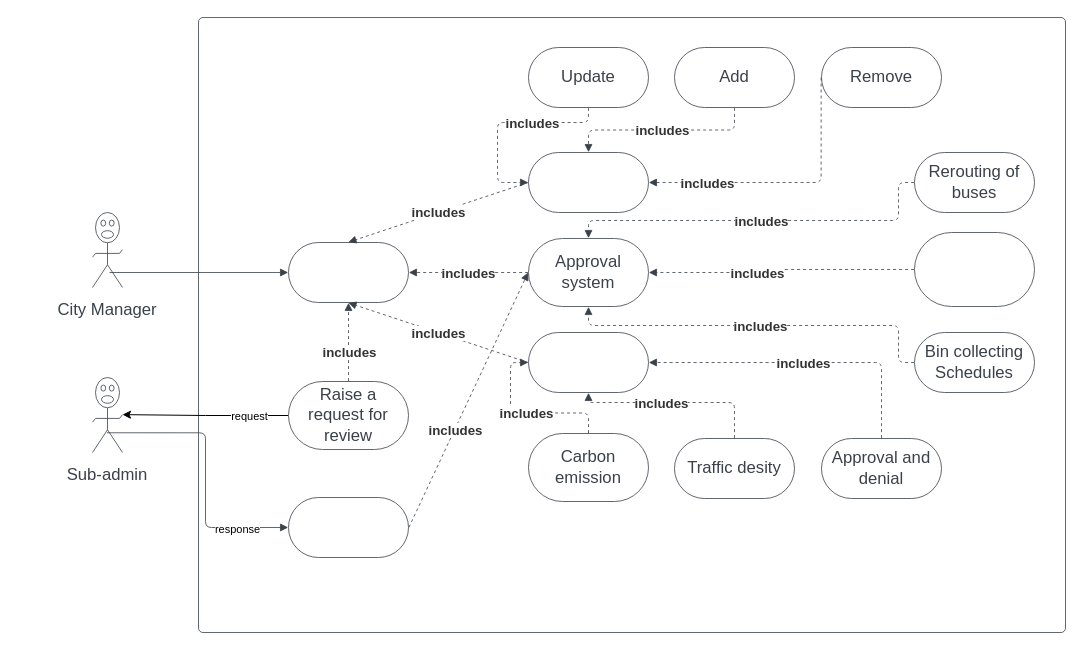
Some shapes in this 1083 by 650 pixel diagram are drawn without their labels. The shapes that lost their labels are listed below. From the top down, each one's centre as x and y in pixels, then its label:
[588,182]: User Management
[348,272]: Dashboard features
[974,269]: Rescheduling of DART and Luas
[588,362]: Report generation
[348,527]: Possible Suggestion
